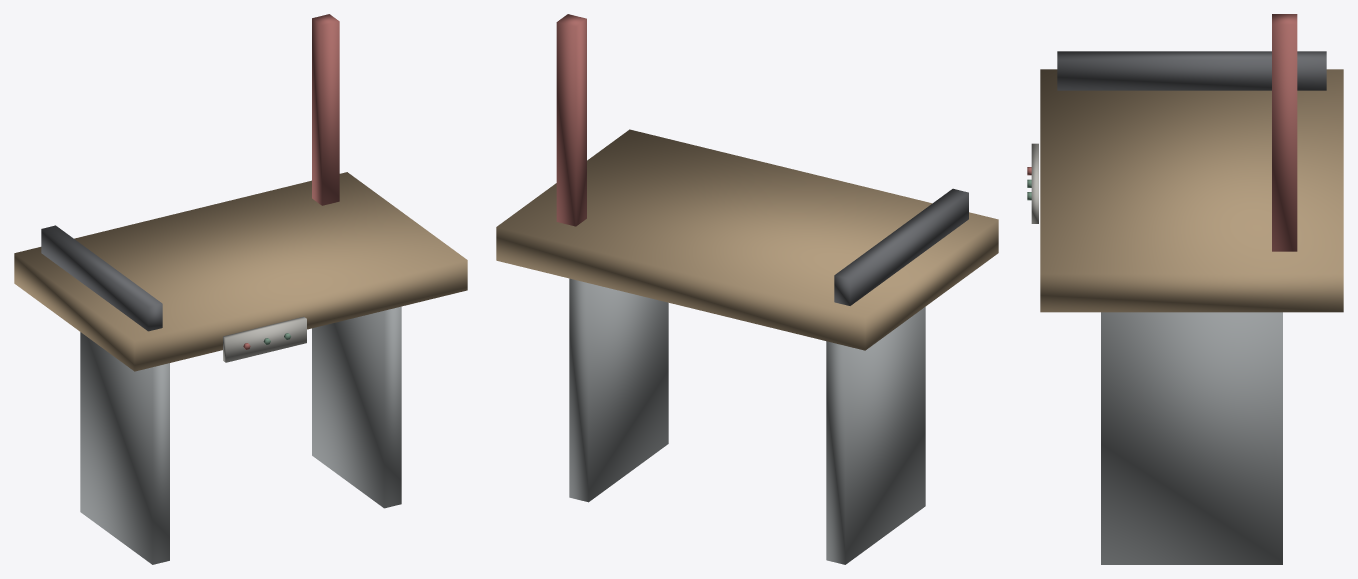
Rendered from paper_cutter.glb.
3 renders of one model, left to right at view 1: azimuth 30°, elevation 25°; view 2: azimuth 150°, elevation 25°; view 3: azimuth 270°, elevation 25°, orthographic. The views are drawn at different scales.
Visible parts, largest first — view 1: world; view 2: world; view 3: world.
Part boxes in pixels (x1=…): world: x1=14, y1=14, x2=467, y2=564; world: x1=496, y1=14, x2=998, y2=564; world: x1=1027, y1=14, x2=1343, y2=564.
Bounding box in the file's own units: 1.15 × 1.42 × 0.751.
